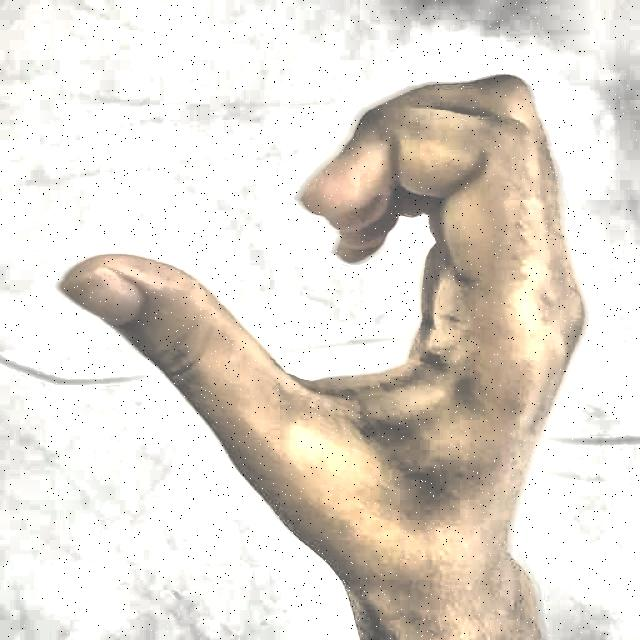Kha: (36, 24, 624, 612)
